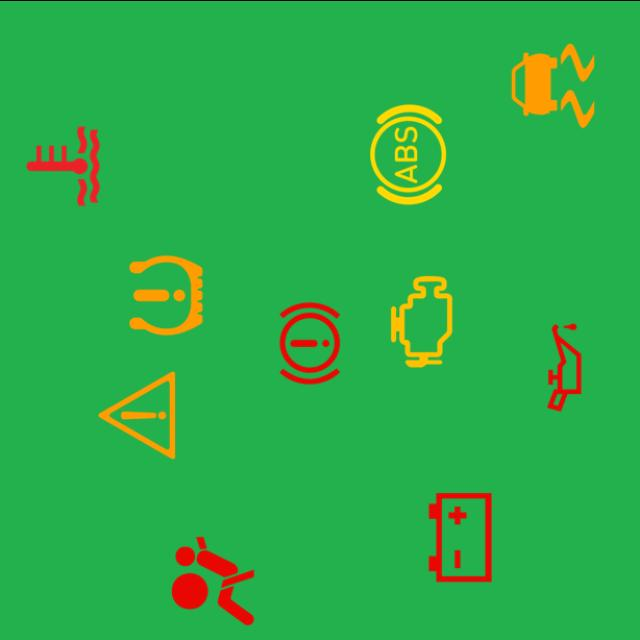Anti Lock Braking System: (353, 98, 463, 208)
Braking System Issue: (255, 288, 365, 398)
Charging System Issue: (405, 482, 515, 592)
Check Engine: (366, 266, 476, 376)
Electronic Stability Problem -ESP-: (498, 30, 608, 140)
Engine Overheating Warning Light: (8, 110, 118, 220)
Low Engine Oil Warning Light: (510, 312, 620, 422)
Low Tire Pressure Warning Light: (111, 240, 222, 350)
Master warning light: (82, 360, 192, 470)
SRS-Airbag: (158, 525, 268, 635)
